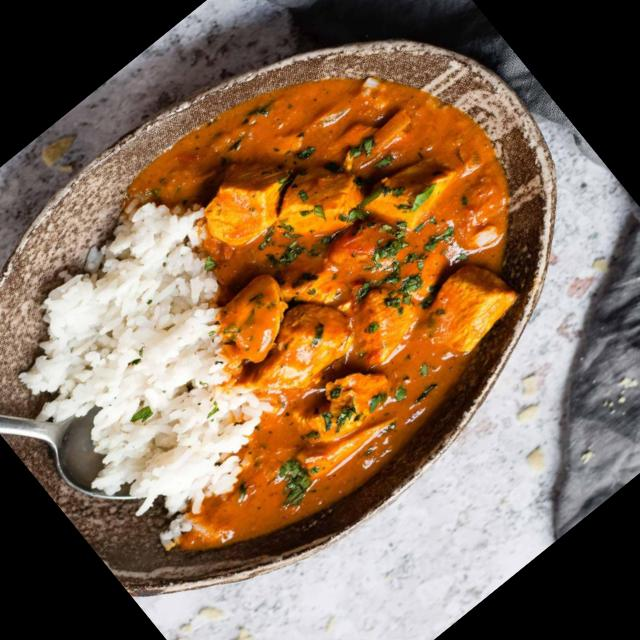chicken: (88, 0, 611, 519)
rice: (0, 221, 290, 538)
